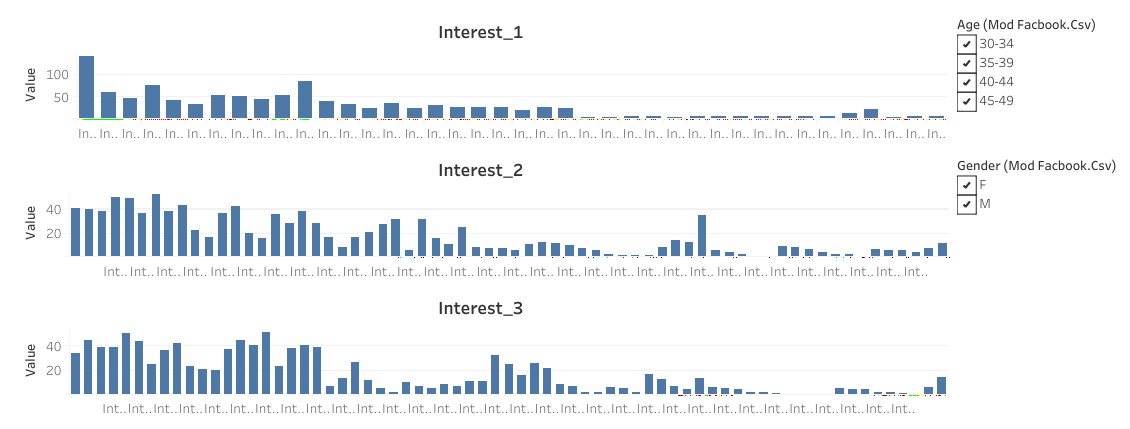

The dashboard page shown, as its layout file describes it:
{"tool":"tableau","page":{"name":"Interests","canvas":[1000,1000],"units":"permille","ordinal":0},"visuals":[{"type":"worksheet","title":"Interest_1 ","mark":"Automatic","box":[6.9,13.5,847.6,324.3]},{"type":"filter","title":"Interest_1 ","param":"[federated.05fx0380g6wmry19dat2i1ozcl1i].[none:age (mod_facbook.csv):nk]","box":[854.5,13.5,138.5,214.5]},{"type":"filter","title":"Interest_1 ","param":"[federated.05fx0380g6wmry19dat2i1ozcl1i].[none:gender (mod_facbook.csv):nk]","box":[854.5,228,138.5,150.3]},{"type":"worksheet","title":"Interest_2","mark":"Automatic","box":[6.9,337.8,847.6,324.3]},{"type":"worksheet","title":"Interest_3","mark":"Automatic","box":[6.9,662.1,847.6,324.4]}]}

Visuals, with their boxes on the dashboard's canvas, which has no fixed pixel size, in thousandths of its width and height (x1, y1, x2, y2). These are canvas units, not pixel positions in the 1130x429 screenshot, which may show the page scaled, cropped or inside an application window:
"Interest_1 " worksheet: box(7, 14, 854, 338)
"Interest_1 " filter: box(854, 14, 993, 228)
"Interest_1 " filter: box(854, 228, 993, 378)
"Interest_2" worksheet: box(7, 338, 854, 662)
"Interest_3" worksheet: box(7, 662, 854, 986)
